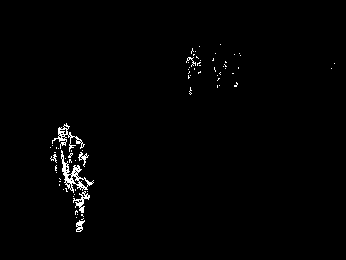person: (47, 124, 92, 234)
